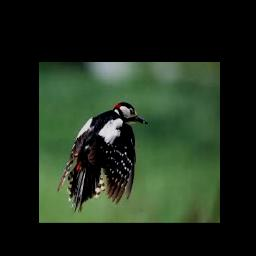Woodpecker: (58, 102, 149, 214)
